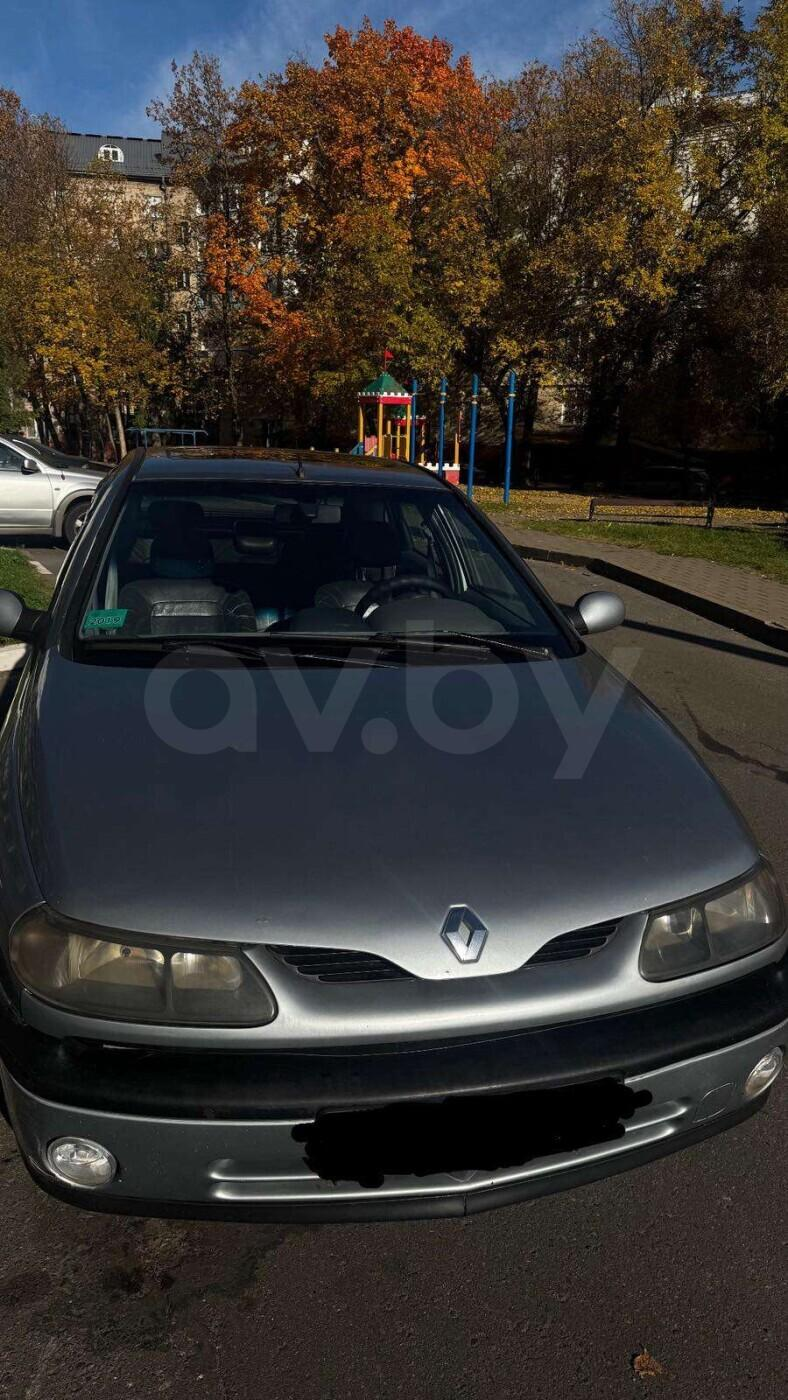Laguna_1998-2001: (0, 446, 788, 1190)
